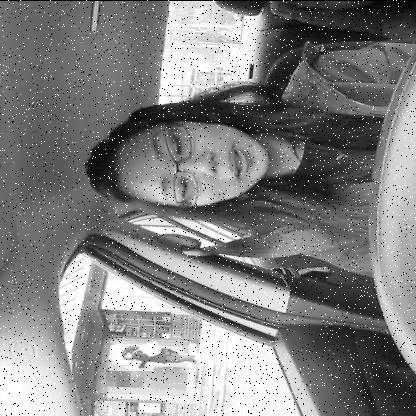seatbelt: (84, 94, 416, 276)
